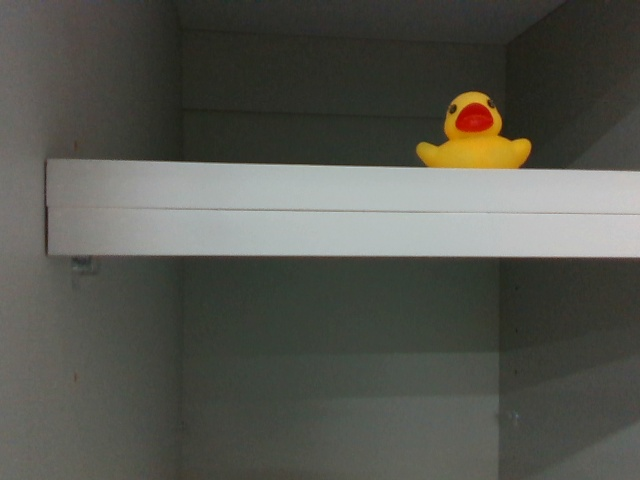duck: (410, 81, 537, 169)
